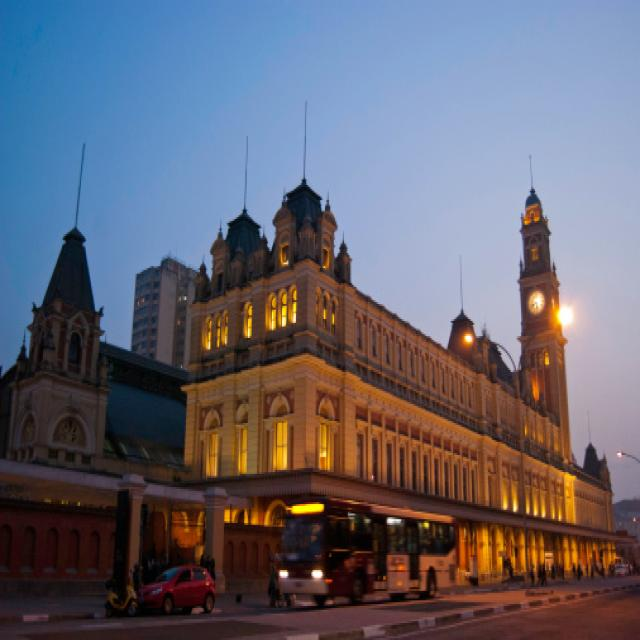Bus: (283, 490, 383, 610), (381, 501, 468, 603)
Motorbike: (100, 575, 150, 625)
car: (129, 567, 231, 614)
